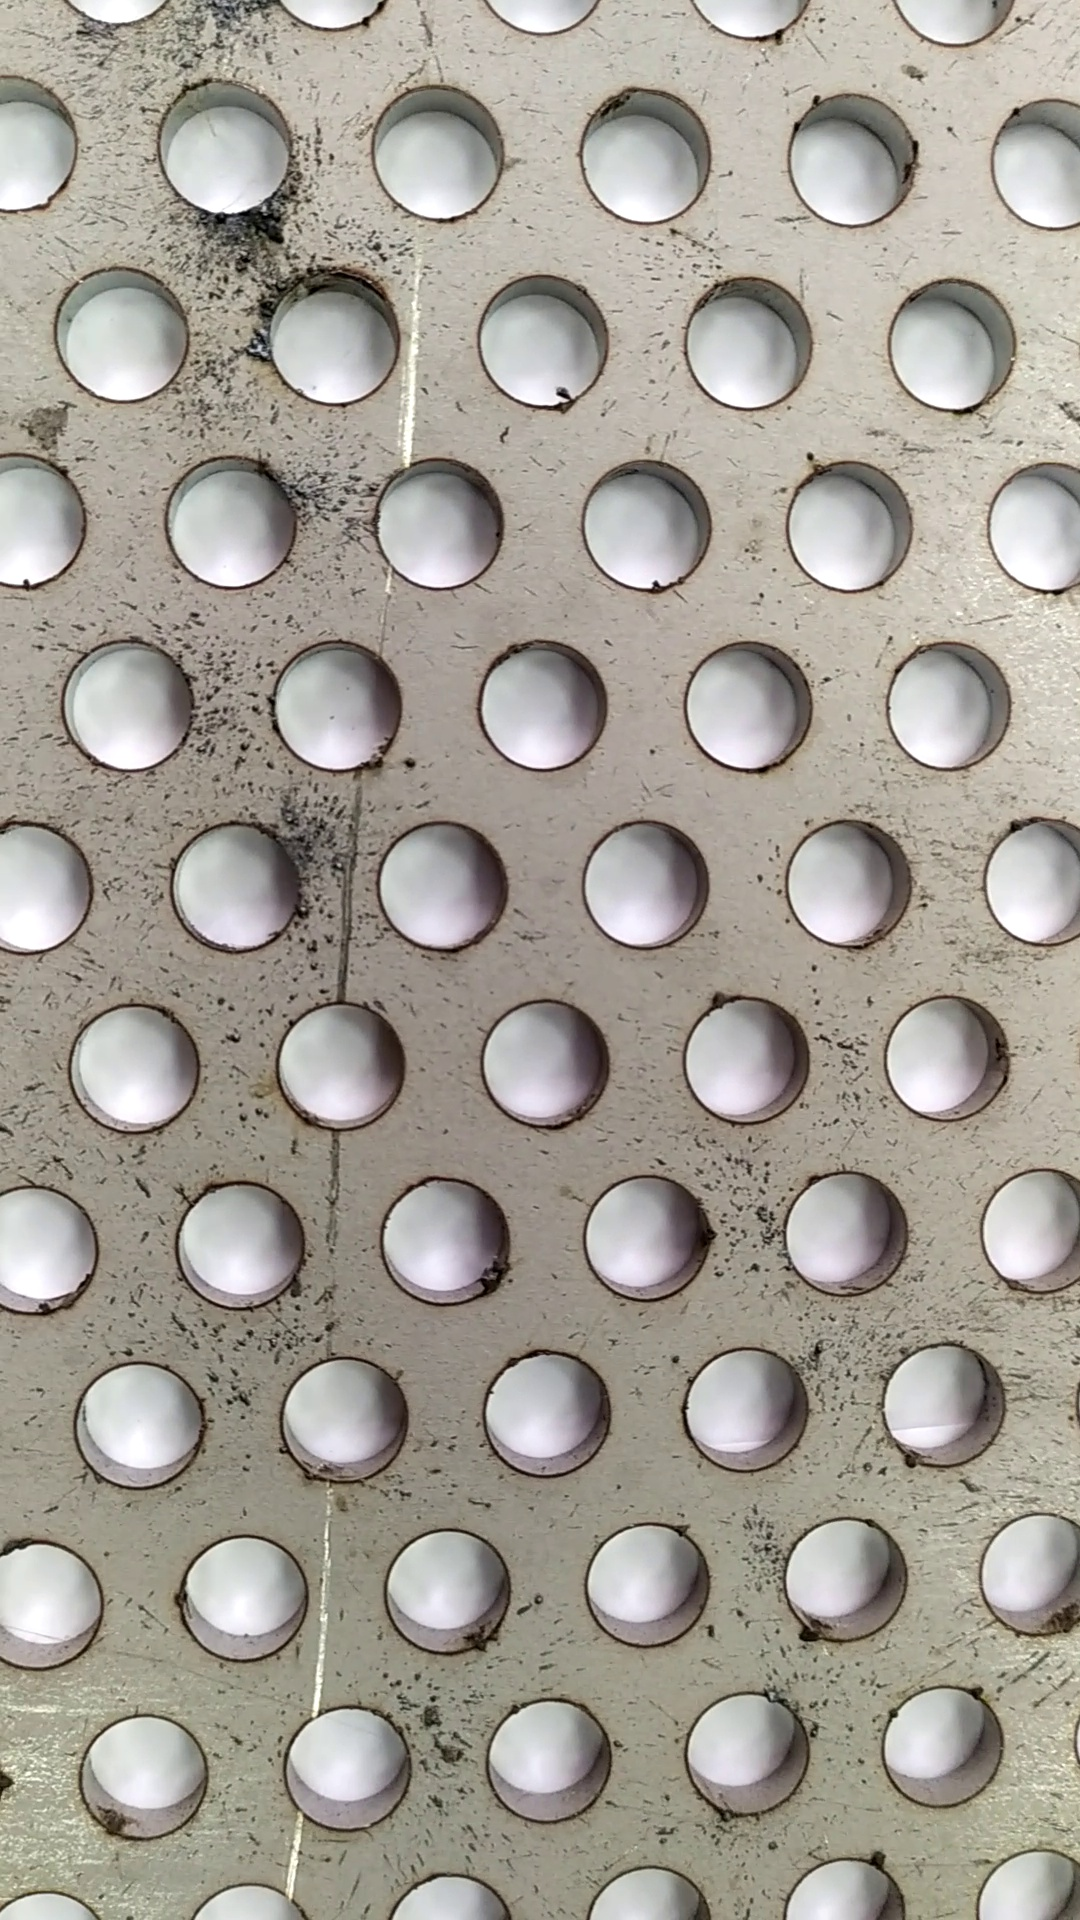Hole: (667, 266, 847, 425), (560, 71, 728, 237), (258, 624, 425, 783), (873, 258, 1034, 422), (55, 996, 222, 1146), (567, 448, 723, 607), (771, 73, 926, 232), (47, 260, 204, 415), (138, 69, 301, 218), (361, 808, 516, 963), (361, 76, 518, 228), (161, 808, 314, 963), (49, 630, 210, 777), (769, 1503, 922, 1656), (673, 981, 828, 1131), (157, 446, 310, 597), (55, 1356, 220, 1495), (363, 446, 514, 597), (675, 630, 828, 781), (574, 807, 728, 956), (265, 996, 425, 1139), (165, 1524, 328, 1664), (775, 450, 924, 603), (473, 1342, 630, 1487), (269, 1348, 426, 1493), (560, 1515, 717, 1660), (65, 1702, 225, 1844), (876, 630, 1026, 779), (269, 1698, 429, 1838), (671, 1679, 825, 1822), (371, 1168, 518, 1317), (865, 1677, 1026, 1813), (469, 993, 620, 1138), (777, 804, 918, 957), (164, 1168, 310, 1315), (876, 978, 1021, 1126), (465, 268, 612, 413), (465, 638, 616, 779), (767, 1164, 918, 1305), (475, 1689, 620, 1834), (262, 262, 404, 411), (575, 1170, 724, 1311), (866, 1335, 1018, 1473), (377, 1522, 516, 1662), (675, 1346, 822, 1476)
